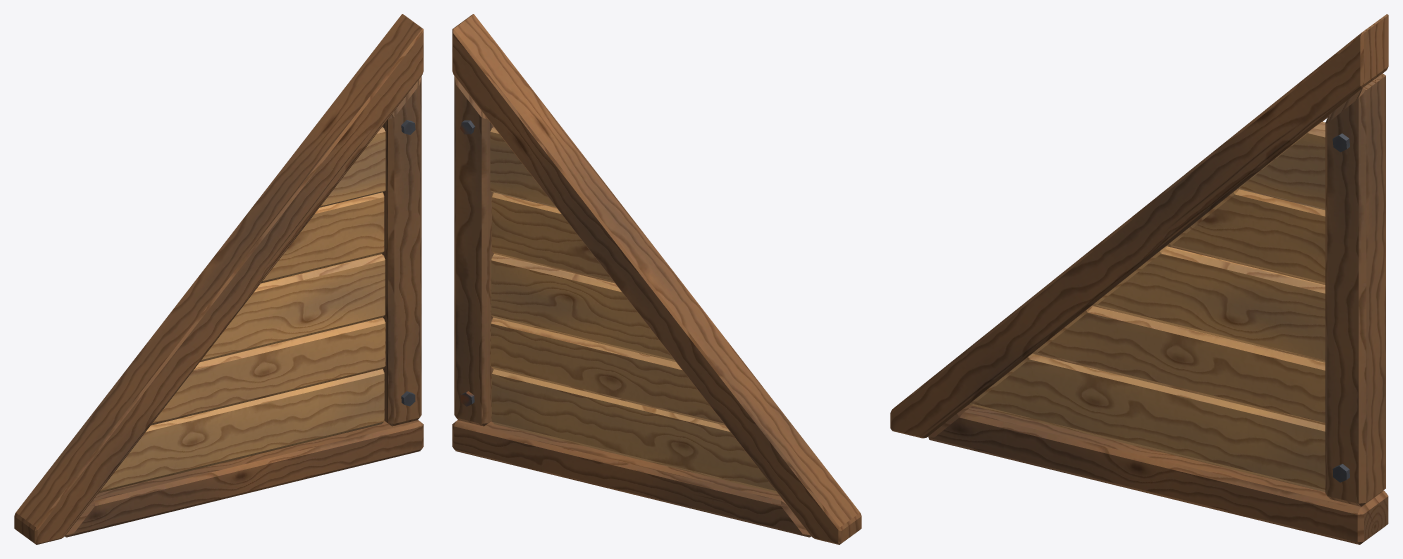
Rendered from ucgen_duvar.glb.
3 renders of one model, left to right at view 1: azimuth 30°, elevation 25°; view 2: azimuth 150°, elevation 25°; view 3: azimuth 330°, elevation 25°, orthographic. The views are drawn at different scales.
Visible parts, largest first — view 1: ucgen_duvar; view 2: ucgen_duvar; view 3: ucgen_duvar.
Boxes of the visible parts, x1,y1,x2,y2 form: ucgen_duvar: [14, 14, 423, 544]; ucgen_duvar: [452, 14, 861, 544]; ucgen_duvar: [890, 14, 1388, 544].
Bounding box in the file's own units: 3 × 3.11 × 0.35.
1 material, 1 textured.
